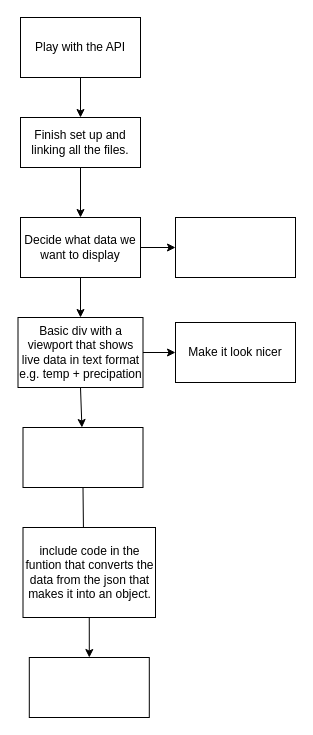
The diagram is 313 pixels wide and 735 high, and some of its shapes have lost their labels. The centre of each missing label's shape, as x and y in pixels:
Accepts live user geo-location: the point at 88,687
do a basic function that retrieves data from the API: the point at 82,457
Temp and precipitaiotn (if we have more time more params): the point at 235,247
